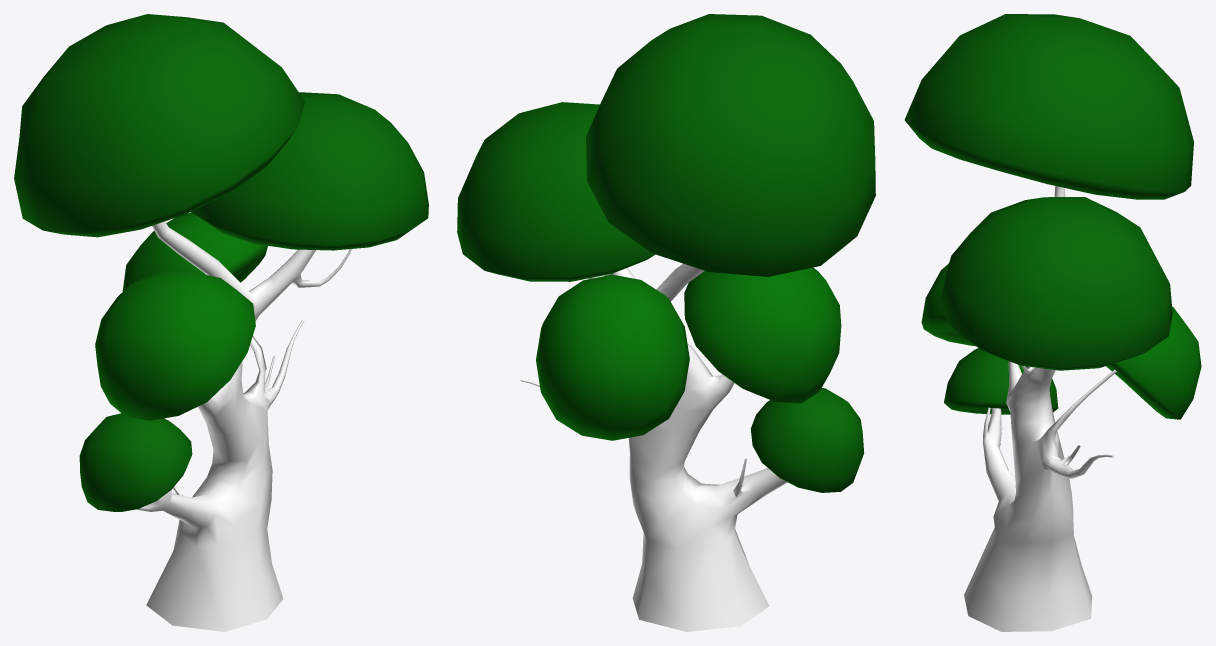
Rendered from SM_Tree_P_18.fbx.
The picture shows the model from 3 angles, left to right: view 1: azimuth 30°, elevation 25°; view 2: azimuth 150°, elevation 25°; view 3: azimuth 270°, elevation 25°; orthographic projection. The views are drawn at different scales.
Visible parts, largest first — view 1: SM_Tree_P_18; view 2: SM_Tree_P_18; view 3: SM_Tree_P_18.
Part boxes in pixels (bbox=[...]): SM_Tree_P_18: bbox=[14, 14, 428, 631]; SM_Tree_P_18: bbox=[457, 14, 875, 631]; SM_Tree_P_18: bbox=[904, 14, 1201, 631].
Size of the model in its own units: 788 by 1147 by 549.
